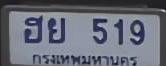1: (113, 18, 123, 45)
5: (92, 17, 108, 44)
9: (129, 19, 145, 45)
A34: (47, 17, 65, 44)
A44: (23, 15, 43, 44)
BKK: (28, 51, 140, 66)
